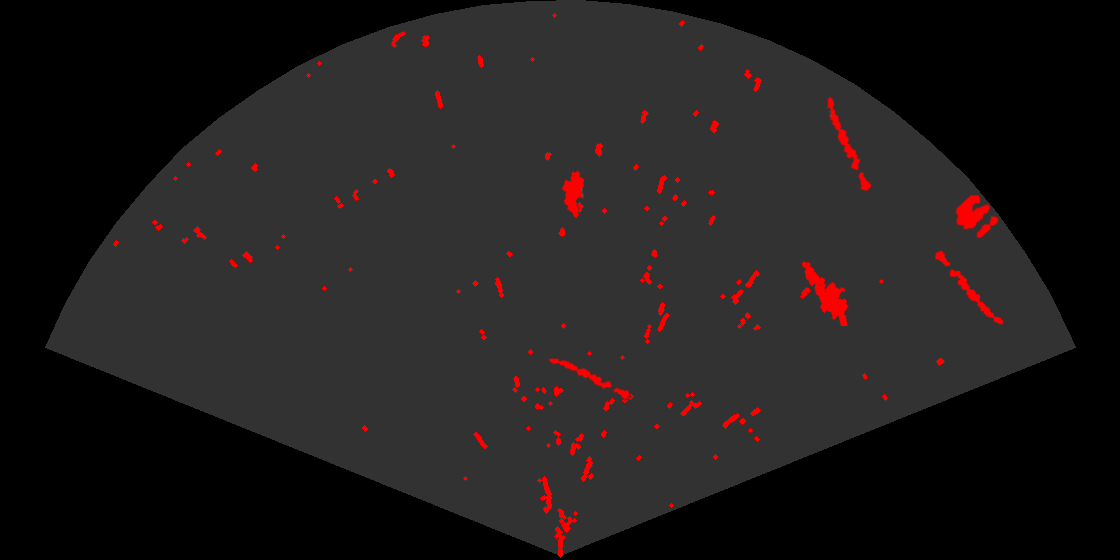AUV: (560, 169, 586, 220)
ball: (954, 193, 1000, 240)
chain: (933, 249, 1005, 326), (826, 95, 873, 193), (547, 357, 639, 403)
frogman: (800, 260, 850, 326)
